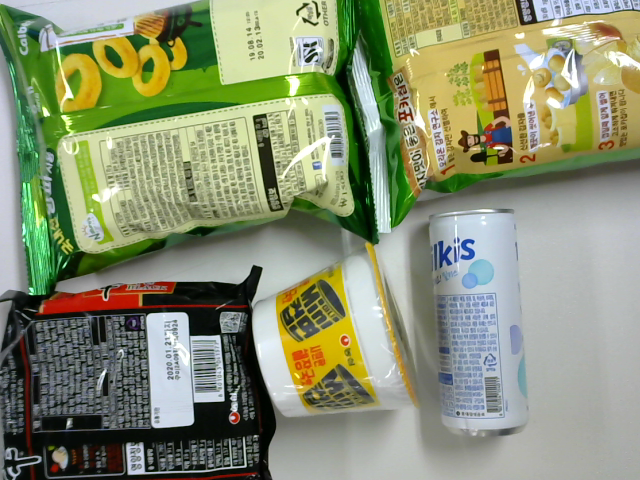Grilled_Onions: (1, 4, 381, 266)
Hejangmini: (245, 242, 427, 424)
Milkies_250ml: (425, 216, 529, 450)
Pocachip_Onion: (355, 4, 640, 202)
Sinramen_Black: (1, 278, 283, 480)
